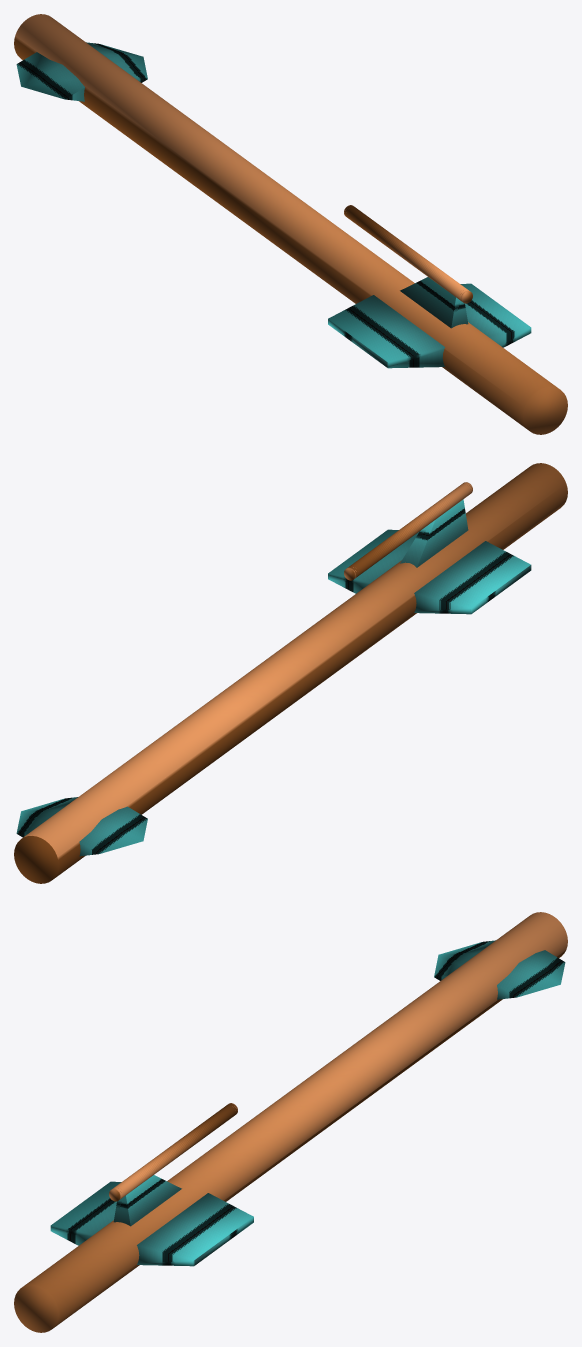
File: cannon.fbx
3 renders of one model, top to bottom at view 1: azimuth 30°, elevation 25°; view 2: azimuth 150°, elevation 25°; view 3: azimuth 330°, elevation 25°, orthographic.
Parts seen in each view (by area): view 1: Cylinder, Cube_001, Cylinder_001, Cube; view 2: Cylinder, Cube_001, Cylinder_001, Cube; view 3: Cylinder, Cube_001, Cylinder_001, Cube.
Boxes of the visible parts, x1,y1,x2,y2 form: Cylinder: (14,14,567,434); Cube_001: (328,283,531,368); Cylinder_001: (344,205,472,328); Cube: (16,42,147,101); Cylinder: (14,463,567,883); Cube_001: (328,529,531,614); Cylinder_001: (344,482,472,580); Cube: (16,797,147,856); Cylinder: (14,912,567,1332); Cube_001: (50,1181,253,1266); Cylinder_001: (109,1103,237,1226); Cube: (434,940,565,999).
Bounding box in the file's own units: 0.8133 × 0.4635 × 5.
